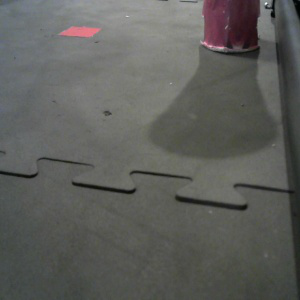Right: (199, 1, 260, 52)
